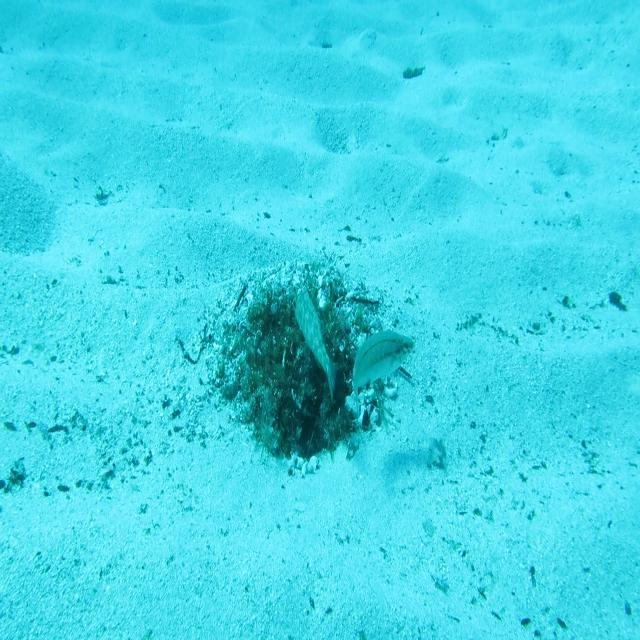NIP_CORE: (288, 284, 339, 406)
core_nest: (274, 309, 320, 360)
female: (352, 327, 417, 422)
nest: (190, 242, 406, 496)
vegetation: (402, 59, 427, 81)
